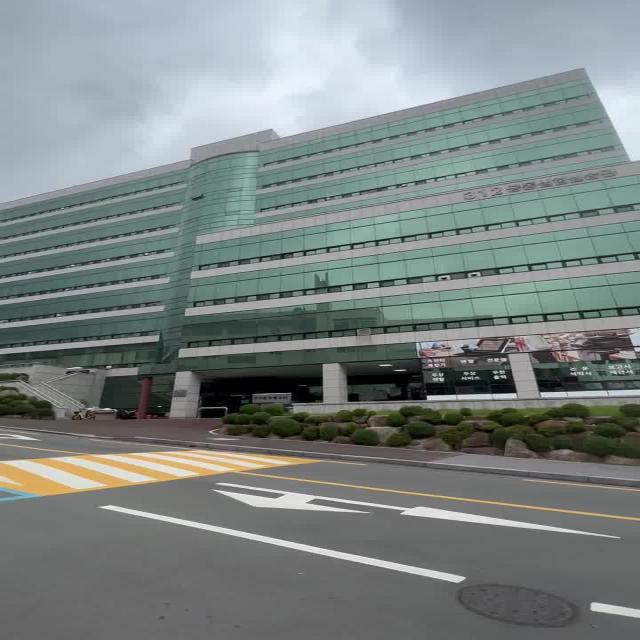building: (60, 96, 640, 346)
